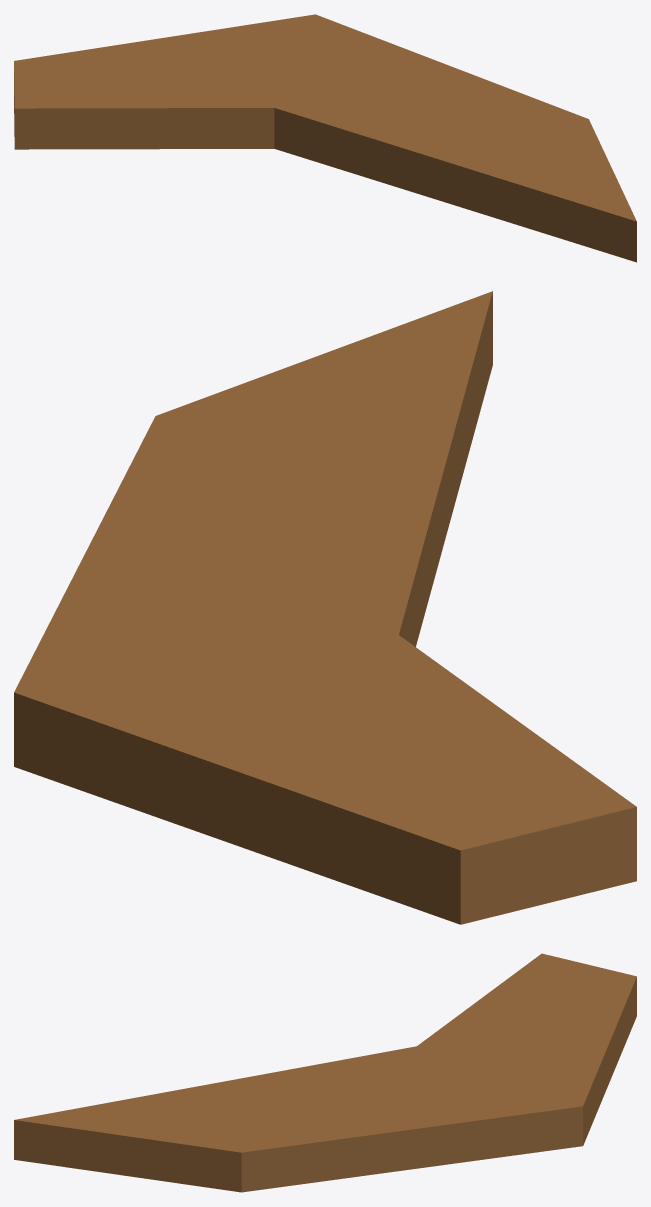
Rendered from x_proval_00_249_1_rmstrd.fbx.
3 views of the same model, one above another, from view 1: azimuth 30°, elevation 25°; view 2: azimuth 150°, elevation 25°; view 3: azimuth 270°, elevation 25° (orthographic). The views are drawn at different scales.
Parts seen in each view (by area): view 1: x_proval_00_249_1_rmstrd1; view 2: x_proval_00_249_1_rmstrd1; view 3: x_proval_00_249_1_rmstrd1.
Part boxes in pixels (x1,y1,x2,y2): x_proval_00_249_1_rmstrd1: [14, 14, 636, 262]; x_proval_00_249_1_rmstrd1: [14, 291, 636, 924]; x_proval_00_249_1_rmstrd1: [14, 953, 636, 1192].
Bounding box in the file's own units: 2.14 × 0.2 × 2.83.
